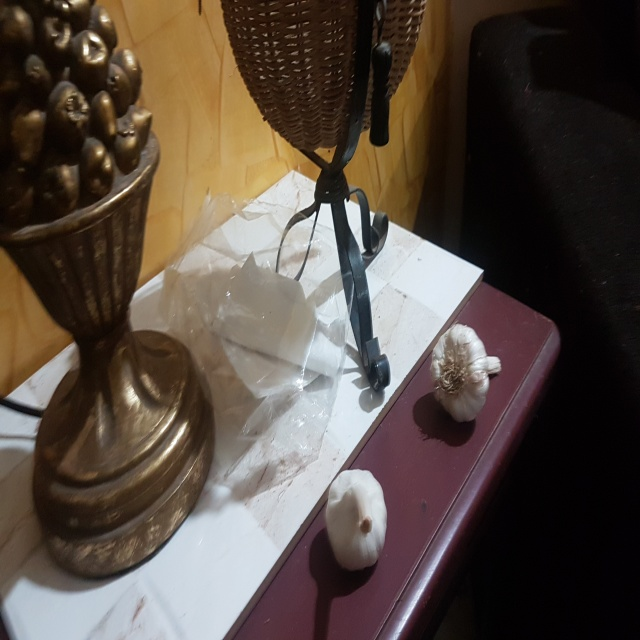garlic: (426, 327, 505, 425), (324, 469, 393, 565)
